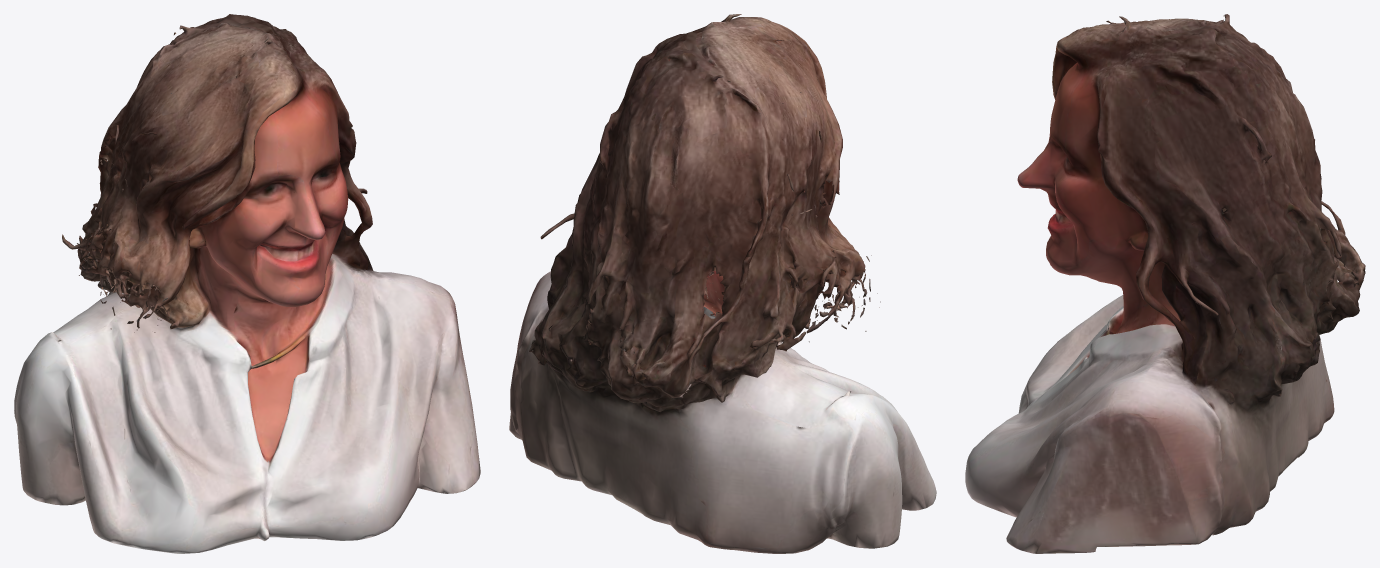
3 views of the same model, side by side, from view 1: azimuth 30°, elevation 25°; view 2: azimuth 150°, elevation 25°; view 3: azimuth 270°, elevation 25° (orthographic). The views are drawn at different scales.
Parts seen in each view (by area): view 1: face; view 2: face; view 3: face.
Part boxes in pixels (bbox=[...]): face: bbox=[14, 14, 480, 553]; face: bbox=[509, 14, 936, 553]; face: bbox=[965, 14, 1365, 553].
Bounding box in the file's own units: 0.9003 × 0.9999 × 0.7905.
Materials: 1 (1 with a texture image).
